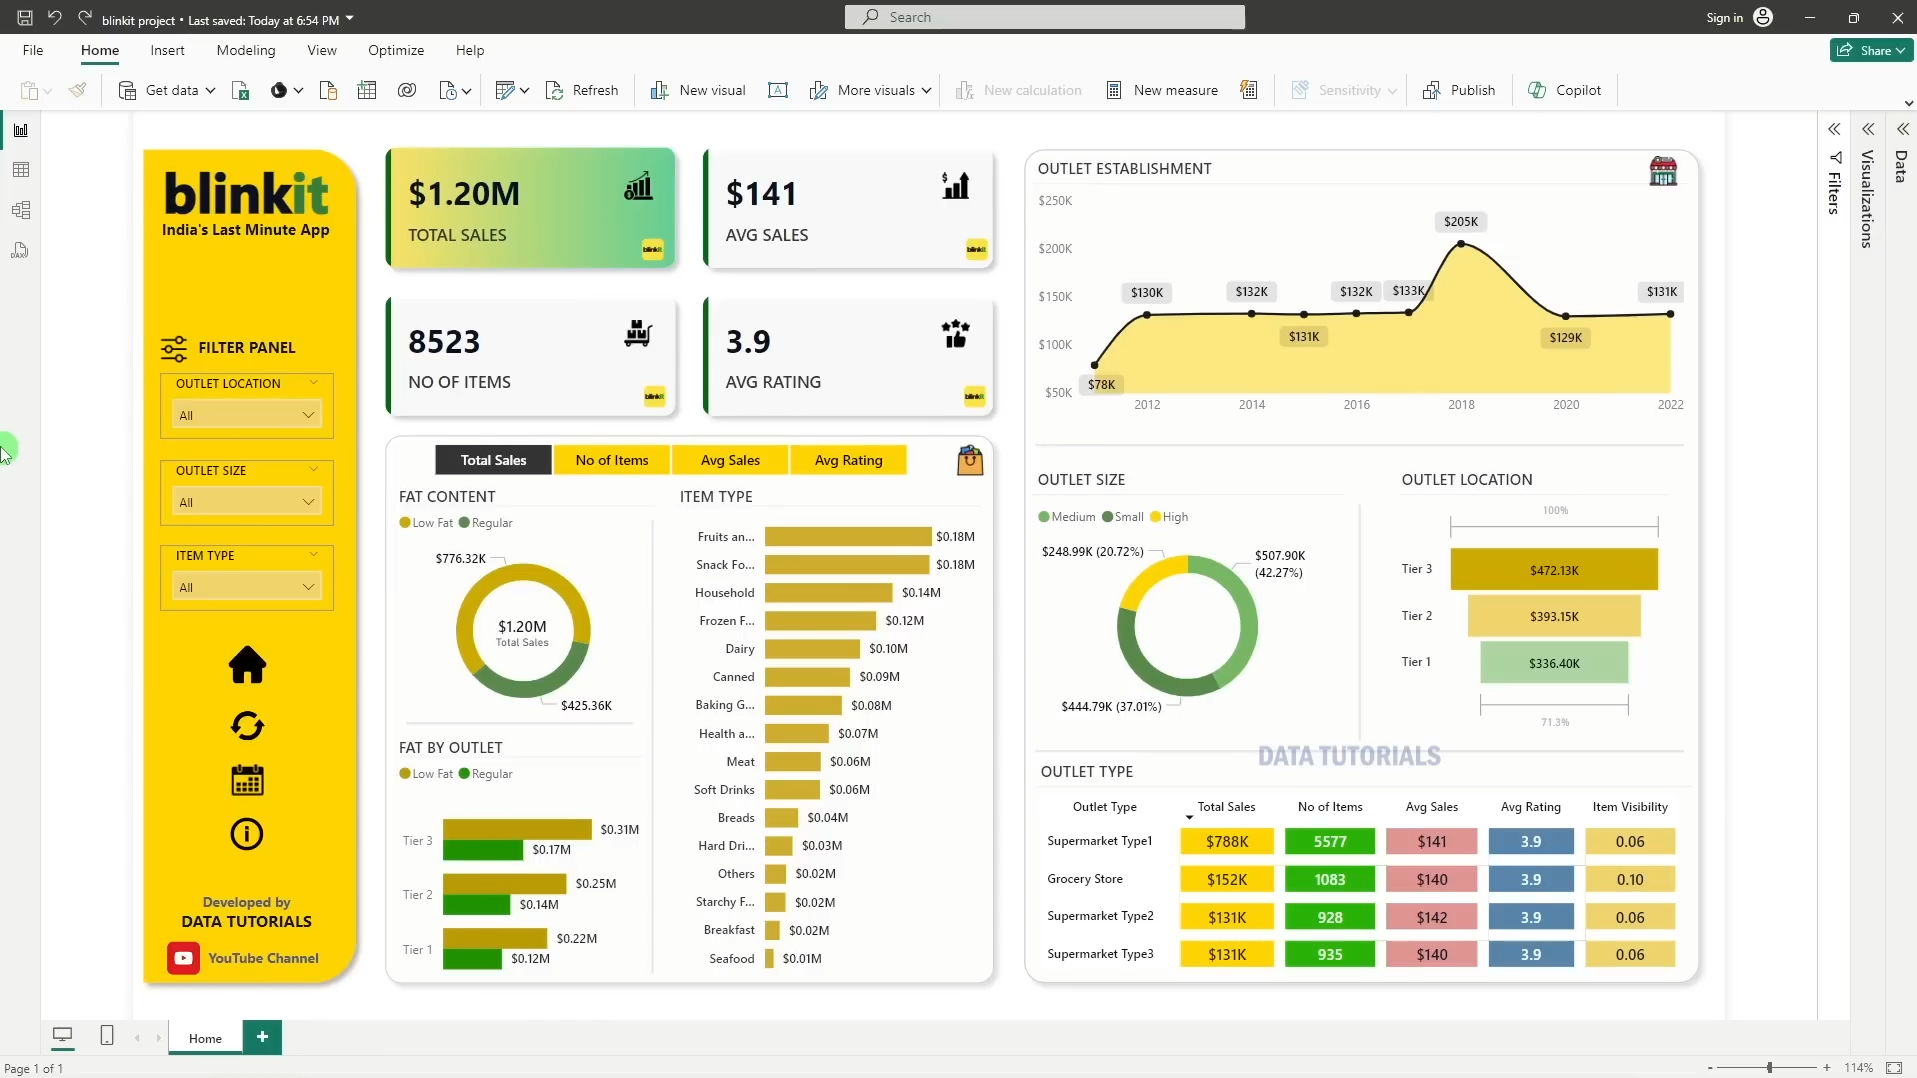

The dashboard page shown, as its layout file describes it:
{"tool":"powerbi","page":{"name":"Page 1","canvas":[1400,800],"ordinal":0},"visuals":[{"type":"shape","box":[0,26.1,205,750],"z":0},{"type":"textbox","box":[20.3,40.6,168.2,75.4],"z":1000},{"type":"textbox","box":[252.5,26,205,750],"z":2000},{"type":"textbox","box":[17.4,100.1,169.7,31.9],"z":3000},{"type":"cardVisual","fields":{"Data":["BlinkIT Grocery Data.Total Sales","BlinkIT Grocery Data.Avg Sales","BlinkIT Grocery Data.No Of Items","BlinkIT Grocery Data.Avg Rating"]},"box":[205,15,570,270],"z":4000},{"type":"shape","box":[217.1,252.9,547.1,522.9],"z":5000},{"type":"donutChart","title":"FAT CONTENT","fields":{"Y":["Sum(BlinkIT Grocery Data.Sales)"],"Category":["BlinkIT Grocery Data.Item Fat Content"]},"box":[231.4,307.1,227.1,208.6],"z":5001},{"type":"slicer","fields":{"Values":["Metrics.Metrics"]},"box":[231.4,265.7,482.9,41.4],"z":5002},{"type":"cardVisual","fields":{"Data":["BlinkIT Grocery Data.Total Sales"]},"box":[281.4,397.4,128.6,92.9],"z":5003},{"type":"clusteredBarChart","title":"FAT BY OUTLET","fields":{"Category":["BlinkIT Grocery Data.Outlet Location Type"],"Y":["BlinkIT Grocery Data.Avg Sales"],"Series":["BlinkIT Grocery Data.Item Fat Content"]},"box":[231.4,527.1,227.1,230],"z":5004},{"type":"shape","box":[472.9,307.1,17.1,450],"z":5005},{"type":"barChart","title":"ITEM TYPE","fields":{"Category":["BlinkIT Grocery Data.Item Type"],"Y":["BlinkIT Grocery Data.Avg Sales"]},"box":[481.4,307.1,264.3,450],"z":5006},{"type":"shape","box":[764.3,27.1,635.7,750],"z":5007},{"type":"lineChart","fields":{"Y":["BlinkIT Grocery Data.Total Sales"],"Category":["BlinkIT Grocery Data.Outlet Establishment Year"]},"box":[785.7,40,597.1,235.7],"z":5008},{"type":"shape","box":[775.7,515.7,607.1,11.4],"z":5009},{"type":"donutChart","title":"OUTLET SIZE","fields":{"Y":["Sum(BlinkIT Grocery Data.Sales)"],"Category":["BlinkIT Grocery Data.Outlet Size"]},"box":[775.7,285.7,278.6,235.7],"z":5011},{"type":"funnel","title":"OUTLET LOCATION","fields":{"Y":["Sum(BlinkIT Grocery Data.Sales)"],"Category":["BlinkIT Grocery Data.Outlet Location Type"]},"box":[1068.6,287.1,311.4,228.6],"z":5012},{"type":"shape","box":[785.7,274.3,607.1,11.4],"z":5013},{"type":"pivotTable","title":"OUTLET TYPE","fields":{"Rows":["BlinkIT Grocery Data.Outlet Type"],"Values":["BlinkIT Grocery Data.Total Sales","BlinkIT Grocery Data.No Of Items","BlinkIT Grocery Data.Avg Sales","BlinkIT Grocery Data.Avg Rating","Sum(BlinkIT Grocery Data.Item Visibility)"]},"box":[775.7,521.4,607.1,235.7],"z":5014},{"type":"slicer","fields":{"Values":["BlinkIT Grocery Data.Outlet Location Type"]},"box":[15.7,235.7,171.4,78.6],"z":5015},{"type":"slicer","fields":{"Values":["BlinkIT Grocery Data.Outlet Size"]},"box":[15.7,324.3,171.4,78.6],"z":5016},{"type":"slicer","fields":{"Values":["BlinkIT Grocery Data.Item Type"]},"box":[15.7,411.4,171.4,78.6],"z":5017}]}

Visuals, with their boxes on the page's 1400x800 design canvas (x1, y1, x2, y2). These are canvas units, not pixel positions in the 1917x1078 screenshot, which may show the page scaled, cropped or inside an application window:
shape: detection(0, 26, 205, 776)
textbox: detection(20, 41, 188, 116)
textbox: detection(252, 26, 458, 776)
textbox: detection(17, 100, 187, 132)
cardVisual - BlinkIT Grocery Data.Total Sales x BlinkIT Grocery Data.Avg Sales: detection(205, 15, 775, 285)
shape: detection(217, 253, 764, 776)
"FAT CONTENT" donutChart: detection(231, 307, 458, 516)
slicer - Metrics.Metrics: detection(231, 266, 714, 307)
cardVisual - BlinkIT Grocery Data.Total Sales: detection(281, 397, 410, 490)
"FAT BY OUTLET" clusteredBarChart: detection(231, 527, 458, 757)
shape: detection(473, 307, 490, 757)
"ITEM TYPE" barChart: detection(481, 307, 746, 757)
shape: detection(764, 27, 1400, 777)
lineChart - BlinkIT Grocery Data.Total Sales x BlinkIT Grocery Data.Outlet Establishment Year: detection(786, 40, 1383, 276)
shape: detection(776, 516, 1383, 527)
"OUTLET SIZE" donutChart: detection(776, 286, 1054, 521)
"OUTLET LOCATION" funnel: detection(1069, 287, 1380, 516)
shape: detection(786, 274, 1393, 286)
"OUTLET TYPE" pivotTable: detection(776, 521, 1383, 757)
slicer - BlinkIT Grocery Data.Outlet Location Type: detection(16, 236, 187, 314)
slicer - BlinkIT Grocery Data.Outlet Size: detection(16, 324, 187, 403)
slicer - BlinkIT Grocery Data.Item Type: detection(16, 411, 187, 490)
